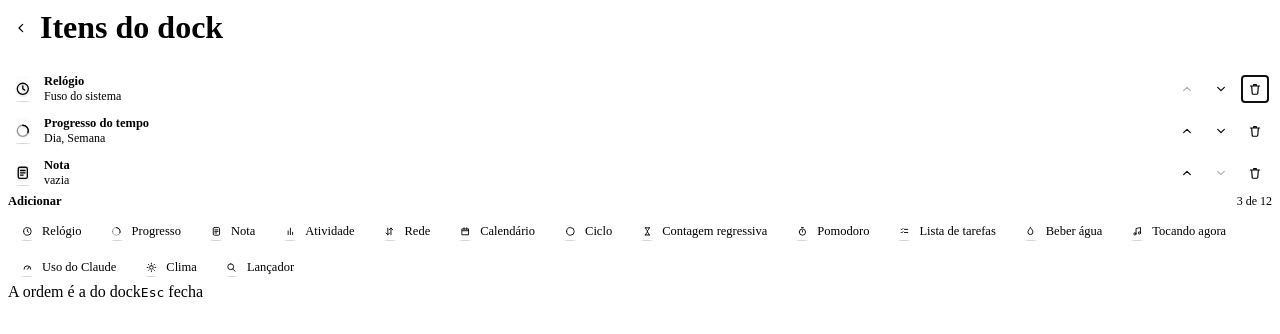
Test: DockItems › removing › keeps the item and the focus when the removal is refused
Click the button named "Remover Relógio".
click(1255, 89)  # box x1=1242 y1=76 x2=1268 y2=102
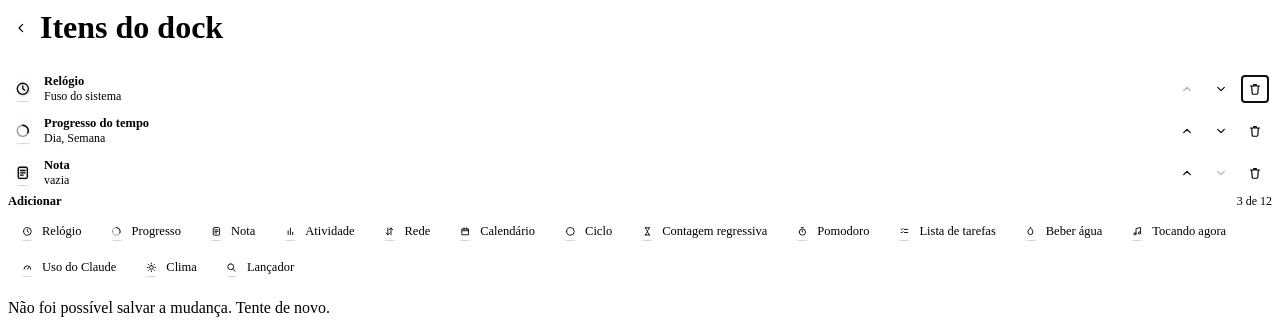
Expected: the message reads "Não foi possível salvar a mudança. Tente de novo.", x1=8 y1=299 x2=330 y2=316
